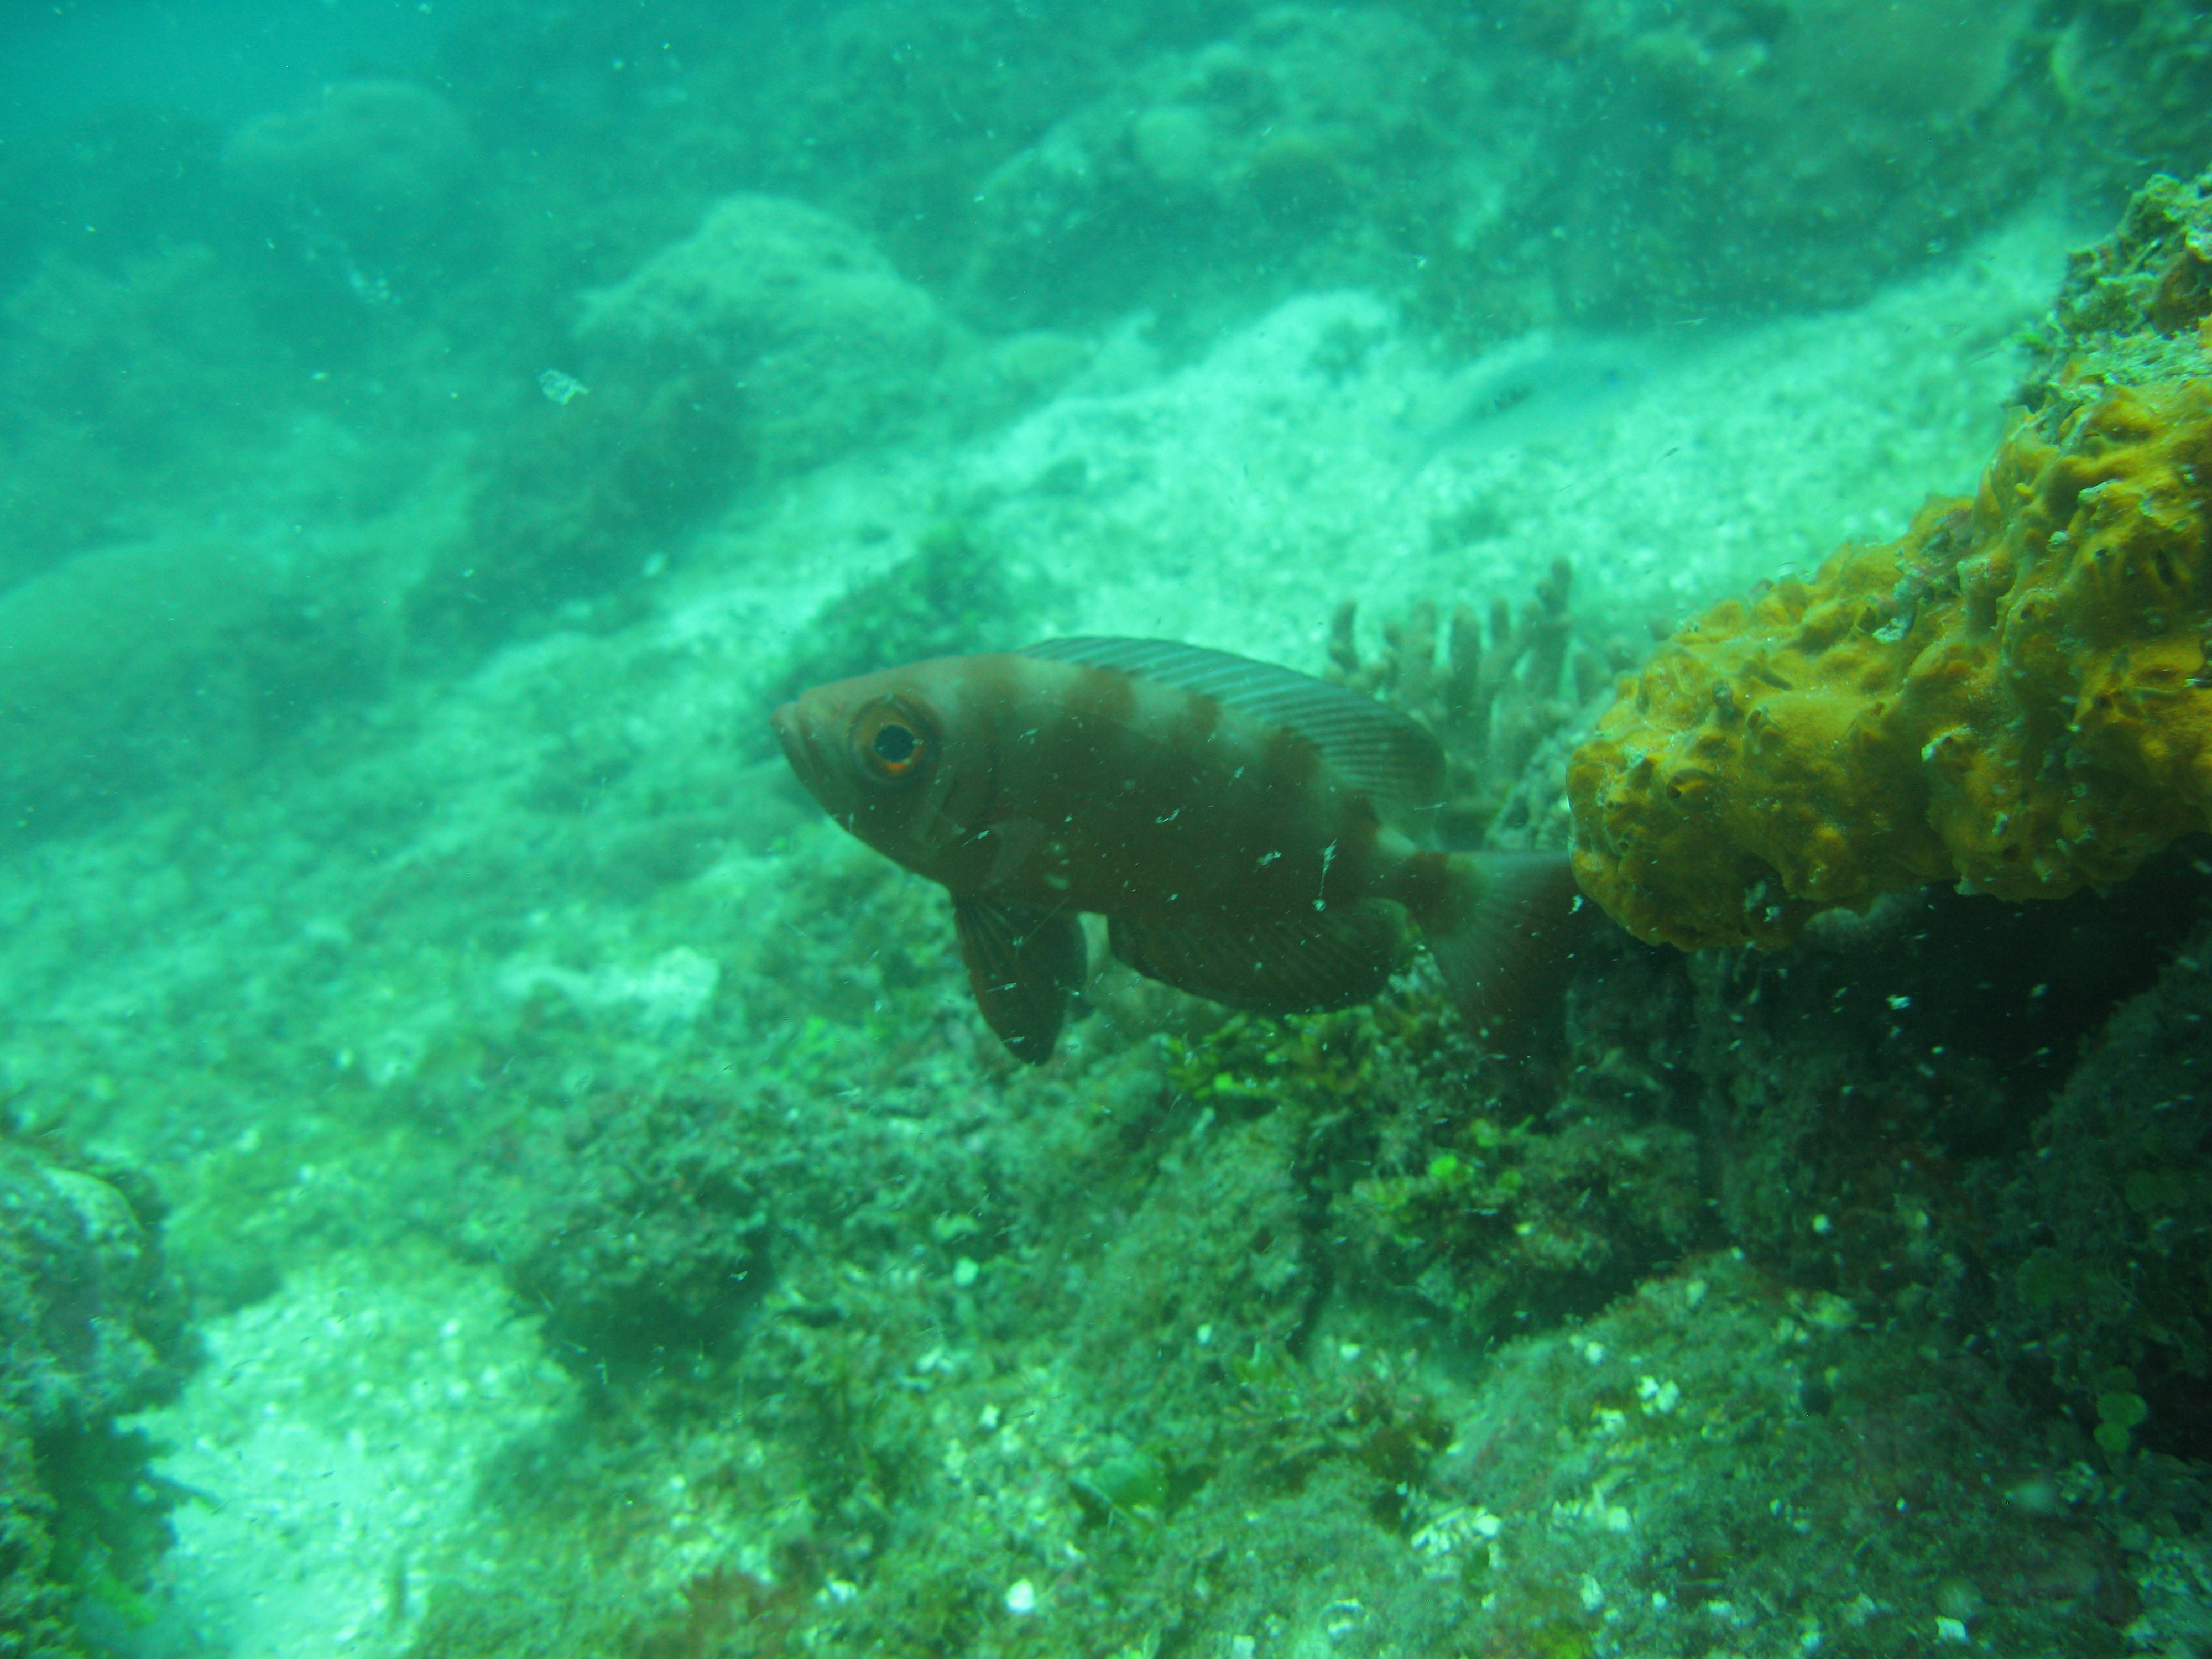Fish: (772, 622, 1604, 1108)
